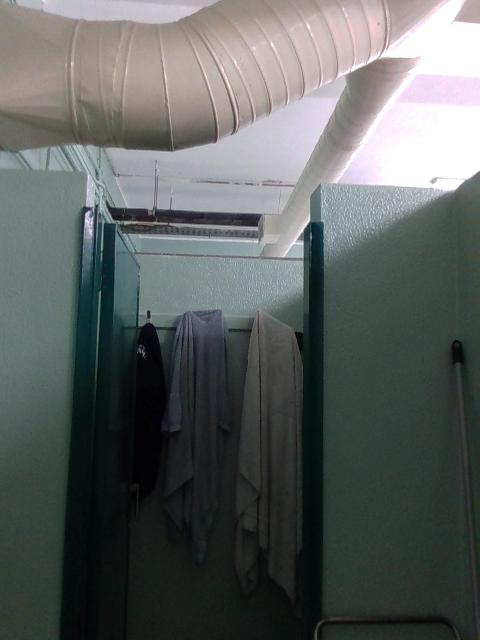open_door: (59, 169, 323, 638)
